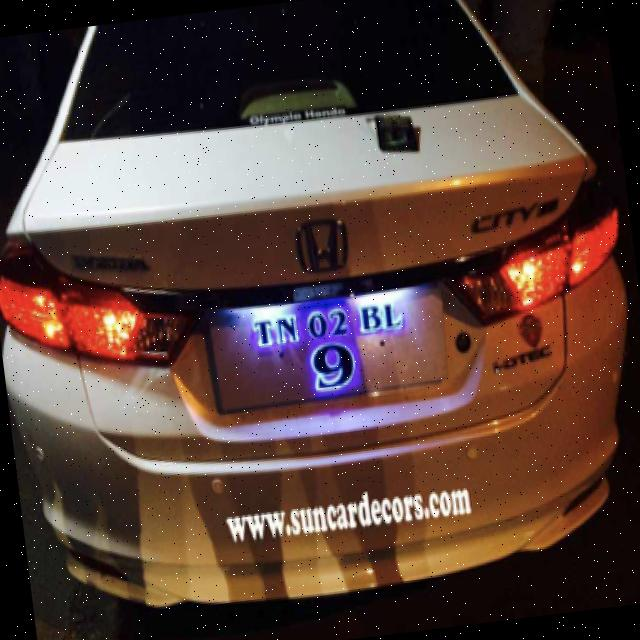Autre: (200, 278, 470, 410)
